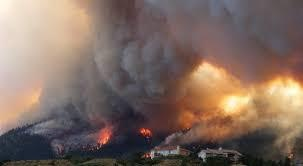fire: (92, 122, 113, 145), (138, 126, 152, 137)
